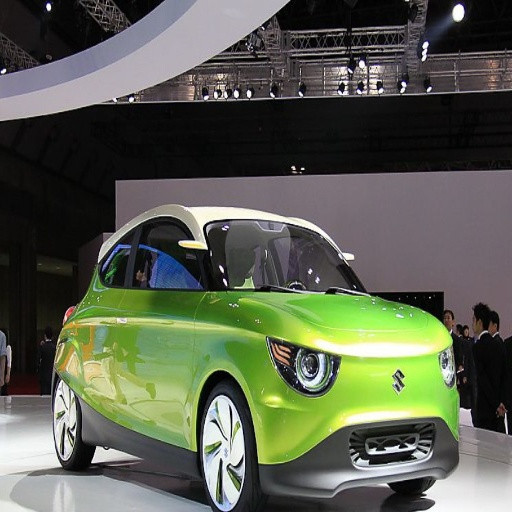front_left_door: (86, 333, 150, 414)
front_right_door: (137, 393, 186, 437)
front_right_light: (270, 339, 326, 393)
trunk: (87, 293, 209, 410)
